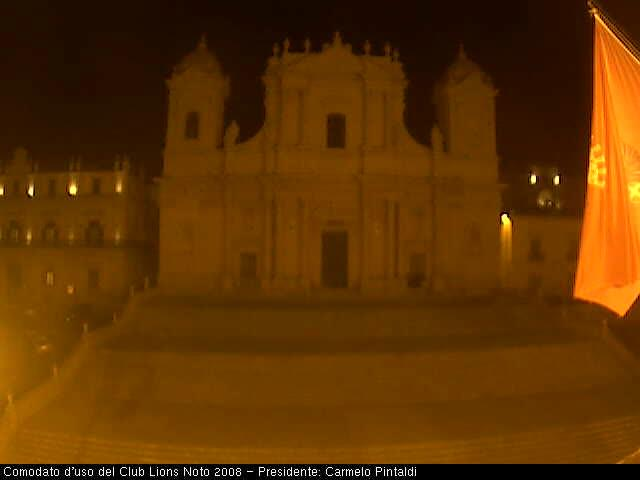person: (417, 272, 426, 290), (411, 275, 418, 290)
